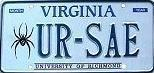placa de veiculo: (1, 0, 152, 72)
